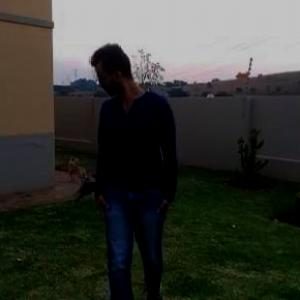follow: (87, 20, 176, 262)
